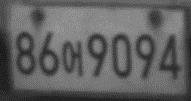0: (111, 33, 133, 78)
4: (157, 32, 183, 81)
6: (36, 31, 60, 77)
8: (15, 31, 37, 75)
9: (133, 32, 156, 79), (85, 32, 108, 78)
어: (61, 39, 84, 78)
